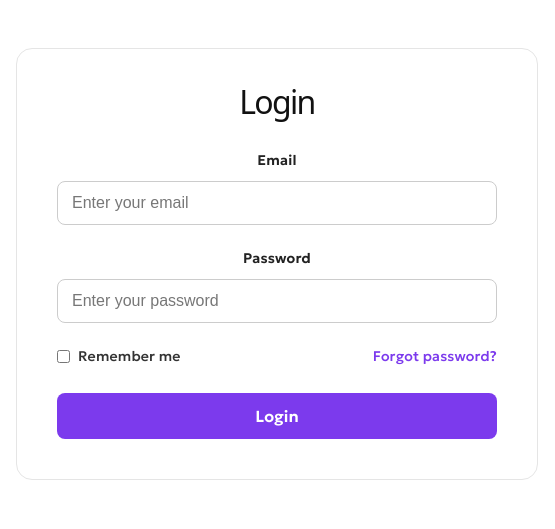
Test case: Login › shows required errors when form is empty
This screenshot has width=555, height=529.
What coordinates should you click on to do the following:
click the button "Login"
I would click on:
 (277, 416)
Its box is [57,393,497,439].
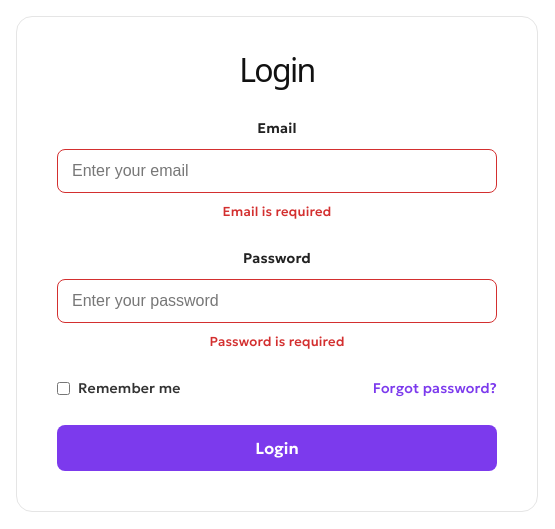
Result: the text "Email is required" is shown at [222,203,331,220]
Result: the text "Password is required" is shown at [209,333,345,350]
